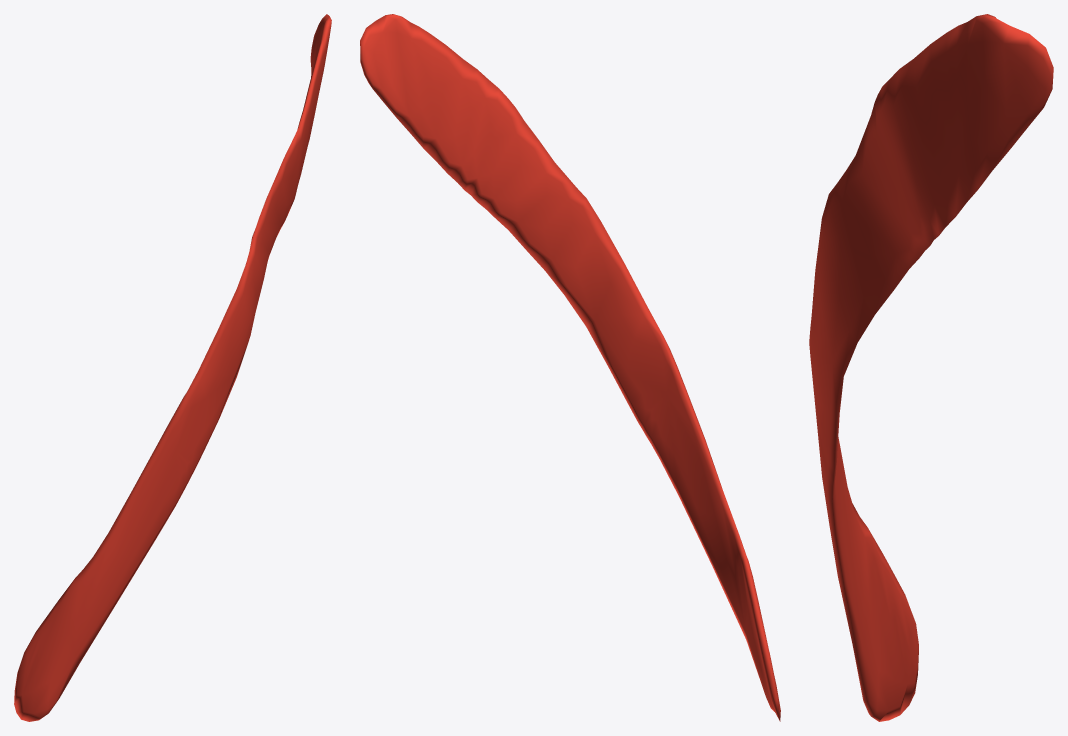
Rendered from Flexor_digitorum_superficialis-Radial_insertion.r_Generated_Mes.glb.
The picture shows the model from 3 angles, left to right: view 1: azimuth 30°, elevation 25°; view 2: azimuth 150°, elevation 25°; view 3: azimuth 270°, elevation 25°; orthographic projection. The views are drawn at different scales.
Parts seen in each view (by area): view 1: Flexor_digitorum_superficialis-Radial_insertion.r_Generated_; view 2: Flexor_digitorum_superficialis-Radial_insertion.r_Generated_; view 3: Flexor_digitorum_superficialis-Radial_insertion.r_Generated_.
Boxes of the visible parts, bbox=[...] form: Flexor_digitorum_superficialis-Radial_insertion.r_Generated_: bbox=[14, 14, 331, 721]; Flexor_digitorum_superficialis-Radial_insertion.r_Generated_: bbox=[360, 14, 780, 721]; Flexor_digitorum_superficialis-Radial_insertion.r_Generated_: bbox=[809, 14, 1053, 721].
Bounding box in the file's own units: 0.0241 × 0.0395 × 0.00907.
